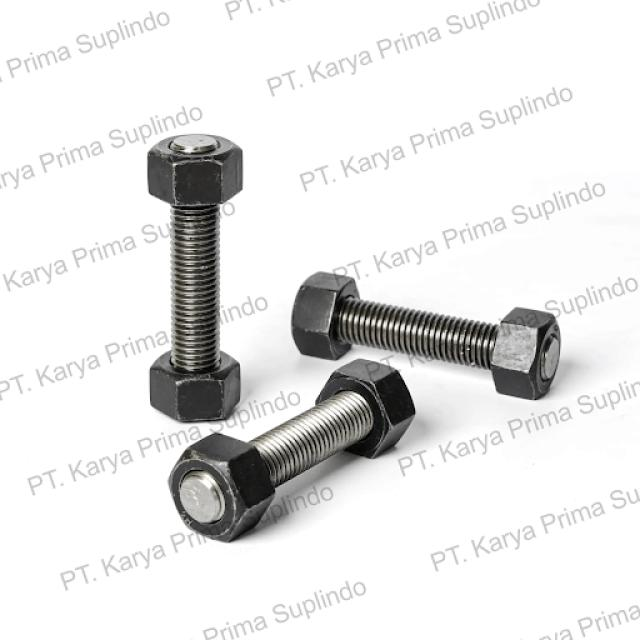Logam: (102, 87, 575, 540)
